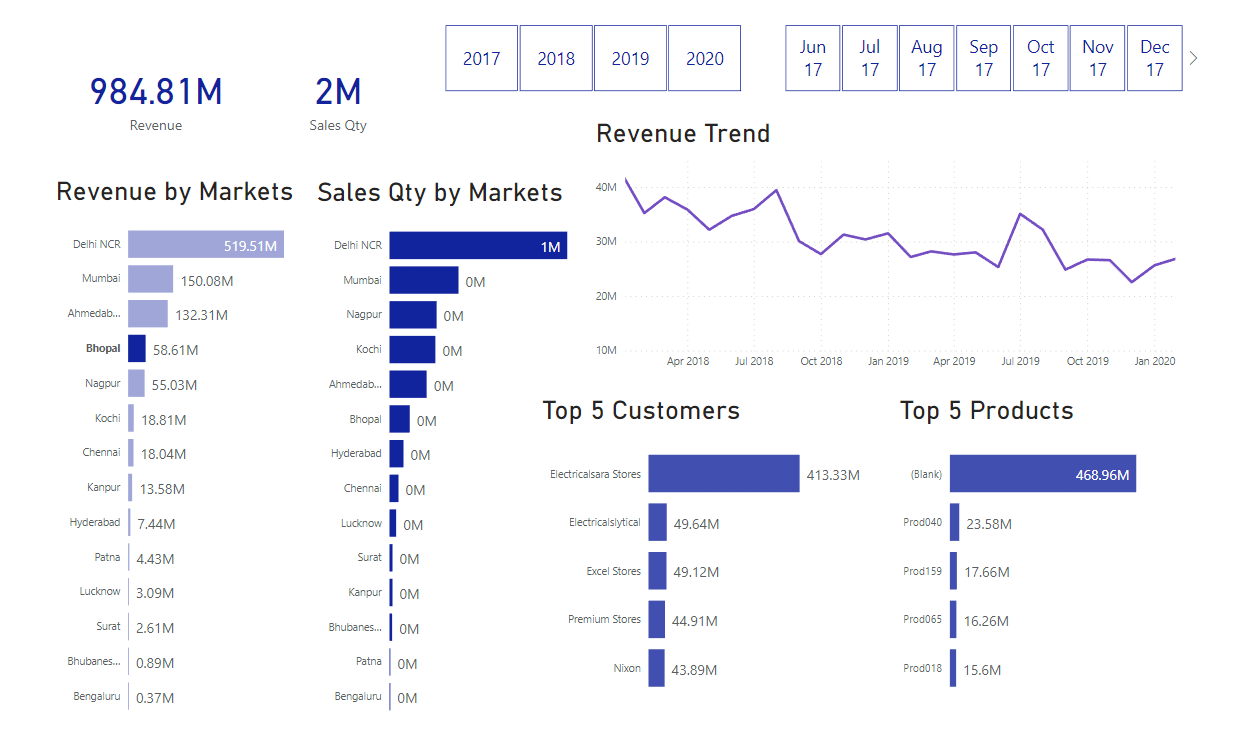

This screenshot's page, from the dashboard's own definition file:
{"tool":"powerbi","page":{"name":"Page 1","canvas":[1350,850],"ordinal":0},"visuals":[{"type":"card","fields":{"Values":["BaseMeasures.Revenue"]},"box":[33.2,15.9,210.7,180.4],"z":0},{"type":"card","fields":{"Values":["BaseMeasures.Sales Qty"]},"box":[256.9,15.9,178.9,180.4],"z":1000},{"type":"barChart","title":"Revenue by Markets","fields":{"Y":["BaseMeasures.Revenue"],"Category":["sales markets.markets_name"]},"box":[18.8,196.3,298.7,632.1],"z":2000},{"type":"barChart","title":"Sales Qty by Markets","fields":{"Y":["BaseMeasures.Sales Qty"],"Category":["sales markets.markets_name"]},"box":[316.7,196.7,298.3,631.7],"z":3000},{"type":"slicer","title":"Year","fields":{"Values":["sales date.year"]},"box":[443,17.3,388.2,89.5],"z":4000},{"type":"slicer","title":"Month","fields":{"Values":["sales date.cy_date"]},"box":[831.2,17.3,503.7,89.5],"z":5000},{"type":"barChart","title":"Top 5 Customers","fields":{"Y":["BaseMeasures.Revenue"],"Category":["sales customers.custmer_name"]},"box":[574.4,445.9,382.4,363.7],"z":6000},{"type":"barChart","title":"Top 5 Products","fields":{"Y":["BaseMeasures.Revenue"],"Category":["sales products.product_code"]},"box":[982.8,445.9,340.6,363.7],"z":7000},{"type":"lineChart","title":"Revenue Trend","fields":{"Category":["sales date.cy_date"],"Y":["BaseMeasures.Revenue"]},"box":[636.4,129.9,686.9,295.8],"z":8000}]}

Visuals, with their boxes on the page's 1350x850 design canvas (x1, y1, x2, y2). These are canvas units, not pixel positions in the 1251x736 screenshot, which may show the page scaled, cropped or inside an application window:
card - BaseMeasures.Revenue: bbox=(33, 16, 244, 196)
card - BaseMeasures.Sales Qty: bbox=(257, 16, 436, 196)
"Revenue by Markets" barChart: bbox=(19, 196, 318, 828)
"Sales Qty by Markets" barChart: bbox=(317, 197, 615, 828)
"Year" slicer: bbox=(443, 17, 831, 107)
"Month" slicer: bbox=(831, 17, 1335, 107)
"Top 5 Customers" barChart: bbox=(574, 446, 957, 810)
"Top 5 Products" barChart: bbox=(983, 446, 1323, 810)
"Revenue Trend" lineChart: bbox=(636, 130, 1323, 426)
